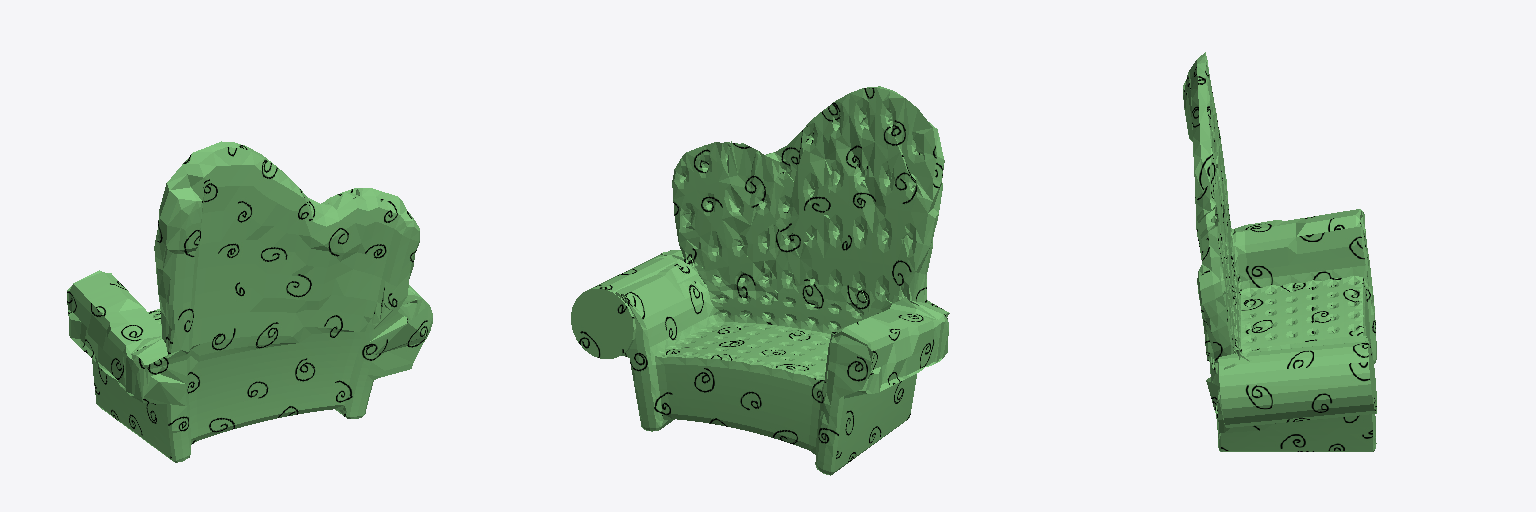
3 views of the same model, side by side, from view 1: azimuth 30°, elevation 25°; view 2: azimuth 150°, elevation 25°; view 3: azimuth 270°, elevation 25° (orthographic).
Parts seen in each view (by area): view 1: SillonChico; view 2: SillonChico; view 3: SillonChico.
Boxes of the visible parts, <box> form: SillonChico: <box>67,141,432,462</box>; SillonChico: <box>571,86,949,475</box>; SillonChico: <box>1183,52,1376,451</box>.
Bounding box in the file's own units: 9.95 × 9.99 × 5.53.
Materials: 1 (1 with a texture image).